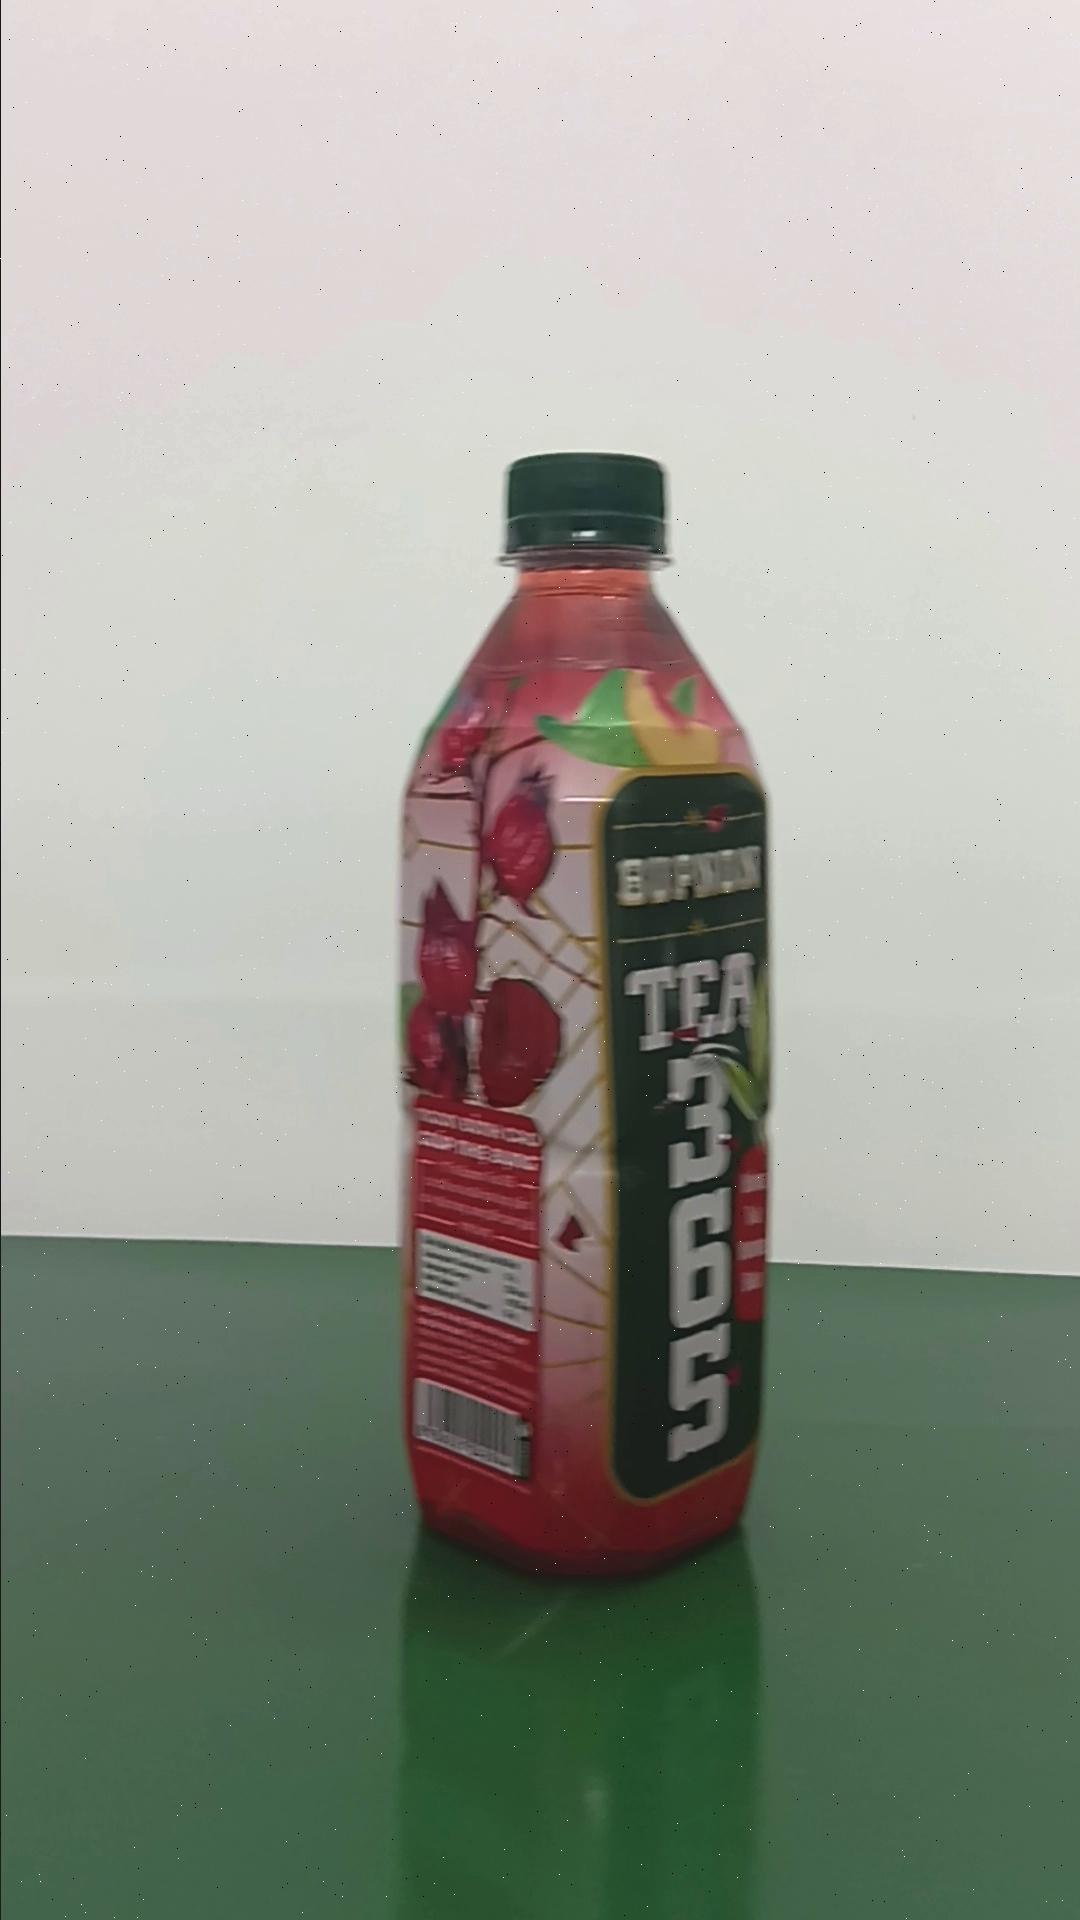loi rach va lap chai: (400, 448, 774, 1602)
